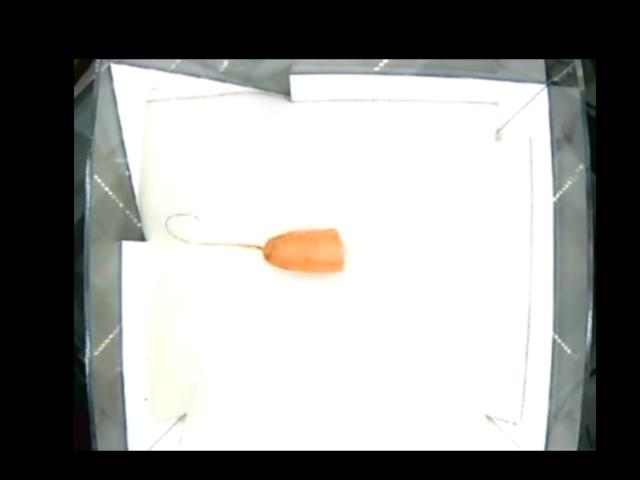Carrot: (257, 223, 347, 274)
